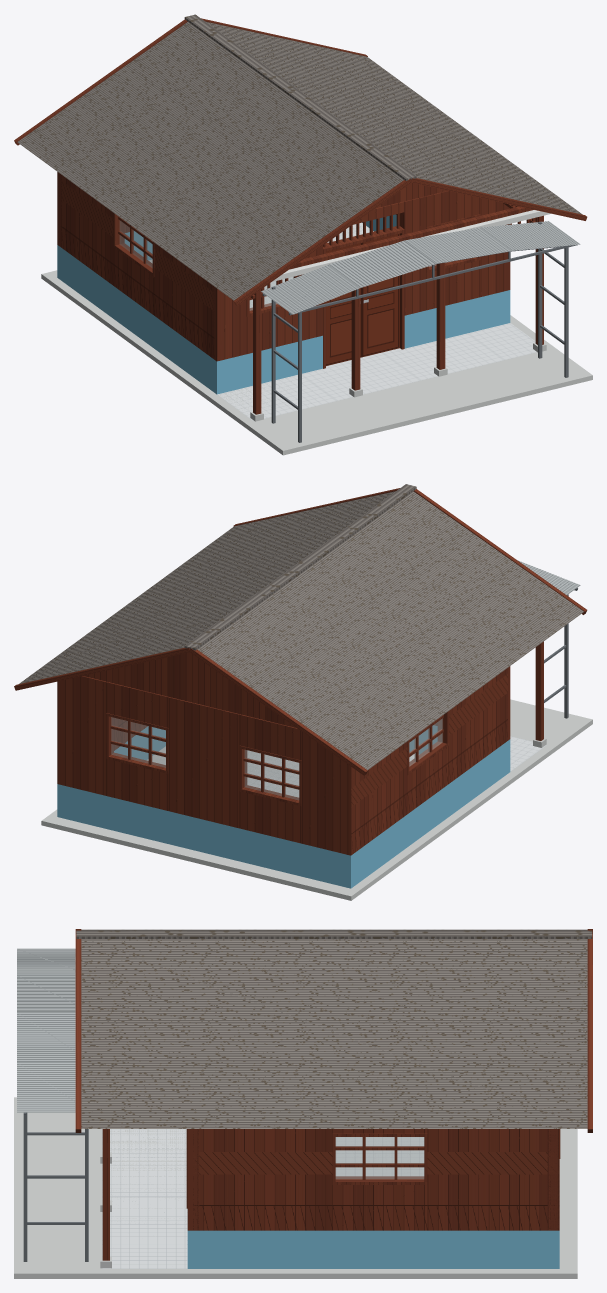
The model's file is ruang_pramuka.glb.
3 renders of one model, top to bottom at view 1: azimuth 30°, elevation 25°; view 2: azimuth 150°, elevation 25°; view 3: azimuth 270°, elevation 25°, orthographic. The views are drawn at different scales.
Visible parts, largest first — view 1: Atap_Asbes_Gelombang_Pramuka, Dinding_Kayu_Mahoni, Plint_Beton_Pramuka, Tembok_Bawah_Biru, Dinding_Samping_Motif_Kayu, Lantai_Keramik_Putih_Kosong, Atap_Kanopi_Seng_Depan, Pintu_Ganda_Mahoni, Rangka_Besi_Kanopi_Hitam, Talang_Pipa_Putih, Kaca_Jendela_Transparan; view 2: Atap_Asbes_Gelombang_Pramuka, Dinding_Kayu_Mahoni, Tembok_Bawah_Biru, Dinding_Samping_Motif_Kayu, Plint_Beton_Pramuka, Kaca_Jendela_Transparan, Lantai_Keramik_Putih_Kosong, Rangka_Besi_Kanopi_Hitam, Atap_Kanopi_Seng_Depan; view 3: Atap_Asbes_Gelombang_Pramuka, Dinding_Samping_Motif_Kayu, Plint_Beton_Pramuka, Tembok_Bawah_Biru, Lantai_Keramik_Putih_Kosong, Atap_Kanopi_Seng_Depan, Dinding_Kayu_Mahoni, Kaca_Jendela_Transparan, Rangka_Besi_Kanopi_Hitam.
Part boxes in pixels (x1,y1,x2,y2): Atap_Asbes_Gelombang_Pramuka: (17, 14, 582, 300); Dinding_Kayu_Mahoni: (14, 18, 587, 414); Plint_Beton_Pramuka: (41, 223, 592, 455); Tembok_Bawah_Biru: (57, 214, 510, 394); Dinding_Samping_Motif_Kayu: (57, 173, 396, 359); Lantai_Keramik_Putih_Kosong: (217, 222, 536, 421); Atap_Kanopi_Seng_Depan: (261, 221, 580, 314); Pintu_Ganda_Mahoni: (326, 233, 399, 365); Rangka_Besi_Kanopi_Hitam: (262, 221, 577, 442); Talang_Pipa_Putih: (272, 210, 550, 281); Kaca_Jendela_Transparan: (119, 221, 450, 310); Atap_Asbes_Gelombang_Pramuka: (19, 484, 583, 770); Dinding_Kayu_Mahoni: (14, 488, 587, 855); Tembok_Bawah_Biru: (57, 725, 510, 888); Dinding_Samping_Motif_Kayu: (114, 668, 507, 854); Plint_Beton_Pramuka: (41, 699, 592, 900); Kaca_Jendela_Transparan: (111, 717, 442, 800); Lantai_Keramik_Putih_Kosong: (152, 736, 546, 796); Rangka_Besi_Kanopi_Hitam: (544, 587, 577, 718); Atap_Kanopi_Seng_Depan: (517, 560, 580, 594); Atap_Asbes_Gelombang_Pramuka: (76, 929, 592, 1128); Dinding_Samping_Motif_Kayu: (193, 1129, 559, 1230); Plint_Beton_Pramuka: (14, 1097, 577, 1278); Tembok_Bawah_Biru: (187, 1230, 559, 1268); Lantai_Keramik_Putih_Kosong: (102, 1129, 424, 1268); Atap_Kanopi_Seng_Depan: (17, 948, 75, 1112); Dinding_Kayu_Mahoni: (75, 929, 592, 1260); Kaca_Jendela_Transparan: (335, 1137, 424, 1179); Rangka_Besi_Kanopi_Hitam: (23, 1112, 88, 1261).
Bounding box in the file's own units: 6.47 × 3.88 × 7.91.
11 materials, 6 textured.
